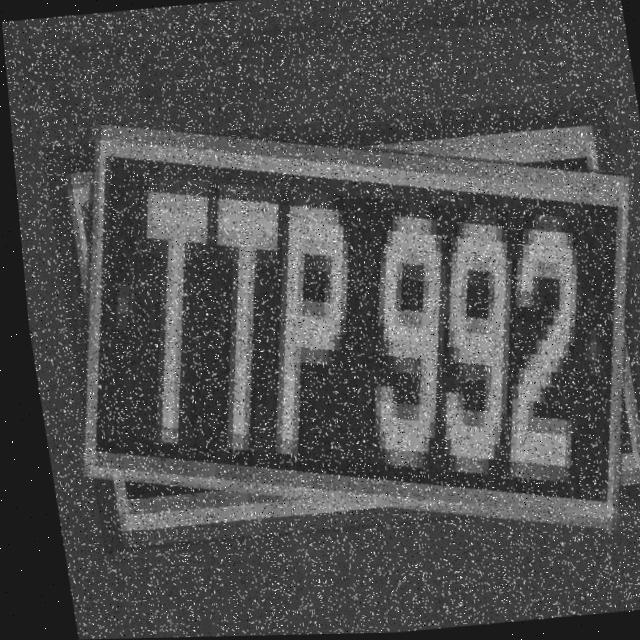LicensePlate: (36, 97, 640, 554)
